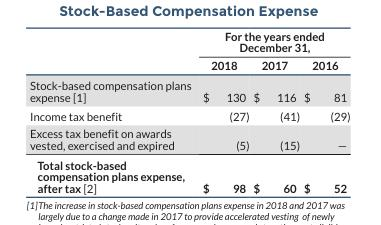table: (28, 28, 349, 194)
table column: (28, 28, 196, 194), (196, 28, 250, 194), (250, 28, 300, 194), (300, 28, 349, 194)
table column header: (28, 28, 349, 74)
table row: (28, 154, 349, 194), (28, 74, 349, 105), (28, 124, 349, 154), (28, 28, 349, 55), (28, 55, 349, 74), (28, 105, 349, 124)
table spanning cell: (196, 28, 349, 55)
